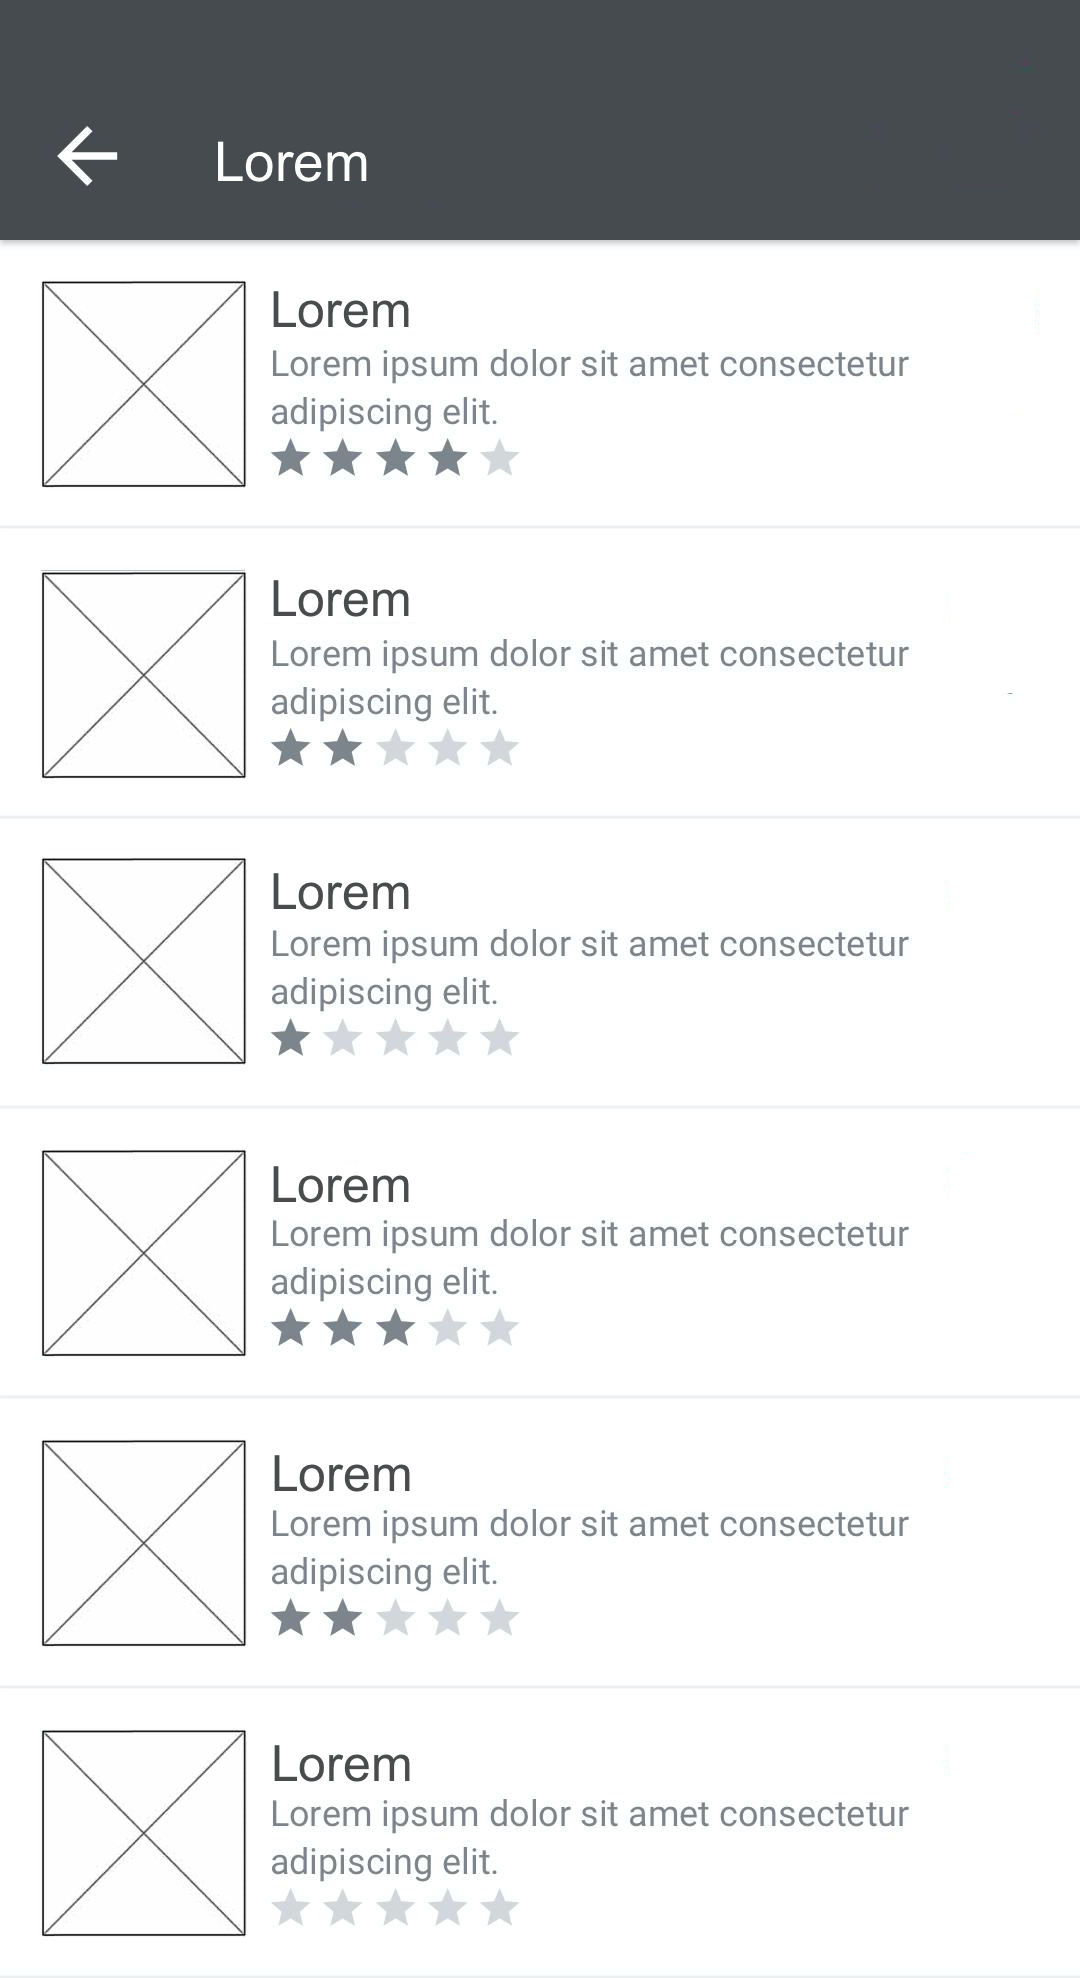Icon: (270, 1017, 521, 1058), (270, 1596, 520, 1638), (270, 1888, 521, 1927), (271, 728, 521, 768), (273, 439, 520, 479), (271, 1309, 519, 1347), (56, 126, 118, 187)
Image: (43, 572, 247, 780), (43, 1149, 247, 1357), (43, 280, 247, 488), (43, 857, 247, 1065), (43, 1440, 247, 1647), (43, 1729, 247, 1937)
Text: (273, 1797, 908, 1884), (270, 1509, 910, 1593), (271, 350, 908, 433), (273, 639, 910, 723), (273, 1219, 910, 1303), (270, 929, 908, 1012), (218, 141, 368, 183), (273, 580, 411, 619), (273, 1164, 410, 1204), (273, 291, 410, 330), (273, 872, 410, 911), (274, 1744, 411, 1783), (273, 1456, 411, 1493)
